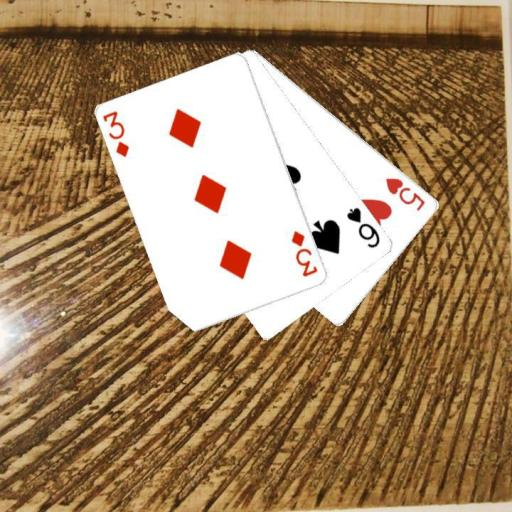3D: (288, 228, 320, 279), (100, 108, 132, 159)
5H: (383, 174, 428, 213)
6S: (344, 204, 383, 250)
